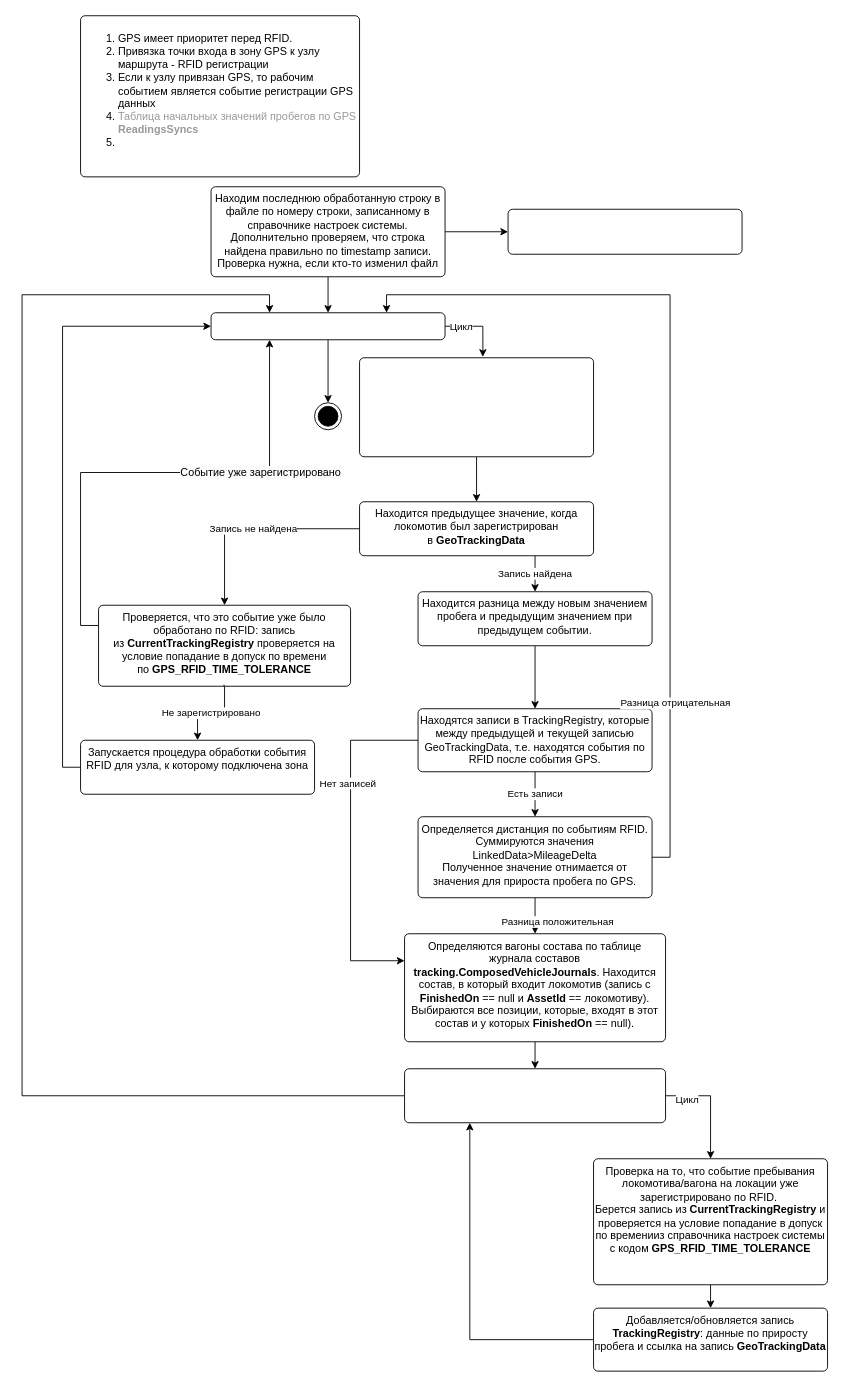
The diagram is 843 pixels wide and 1387 high, and some of its shapes have lost their labels. Each missing label, with the box of its shape:
Для каждого тягового агрегата/вагона формируется событие для ТОиР: (404, 1068, 666, 1123)
Обработка строк файла: (210, 312, 445, 340)
Регистрируется запись в таблице GeoTrackingData Локомотив Время Геозона Пробег: (359, 357, 594, 457)
Таблица системных настроек Код GPS_LINE_NO + Attribute - timestamp для допсверки: (507, 208, 742, 254)
